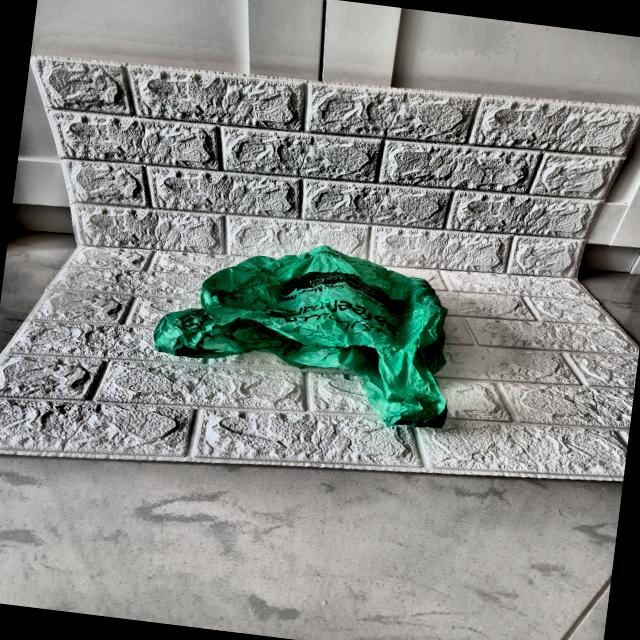plastic bag: (145, 223, 470, 434)
